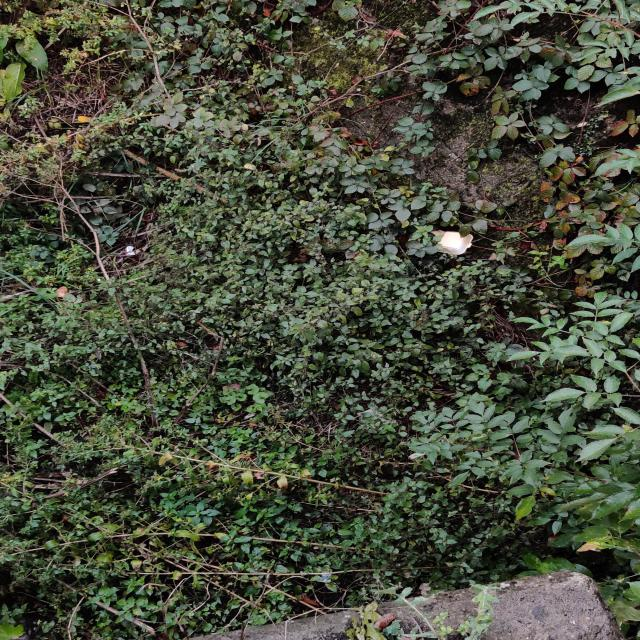litter: (423, 214, 491, 261)
